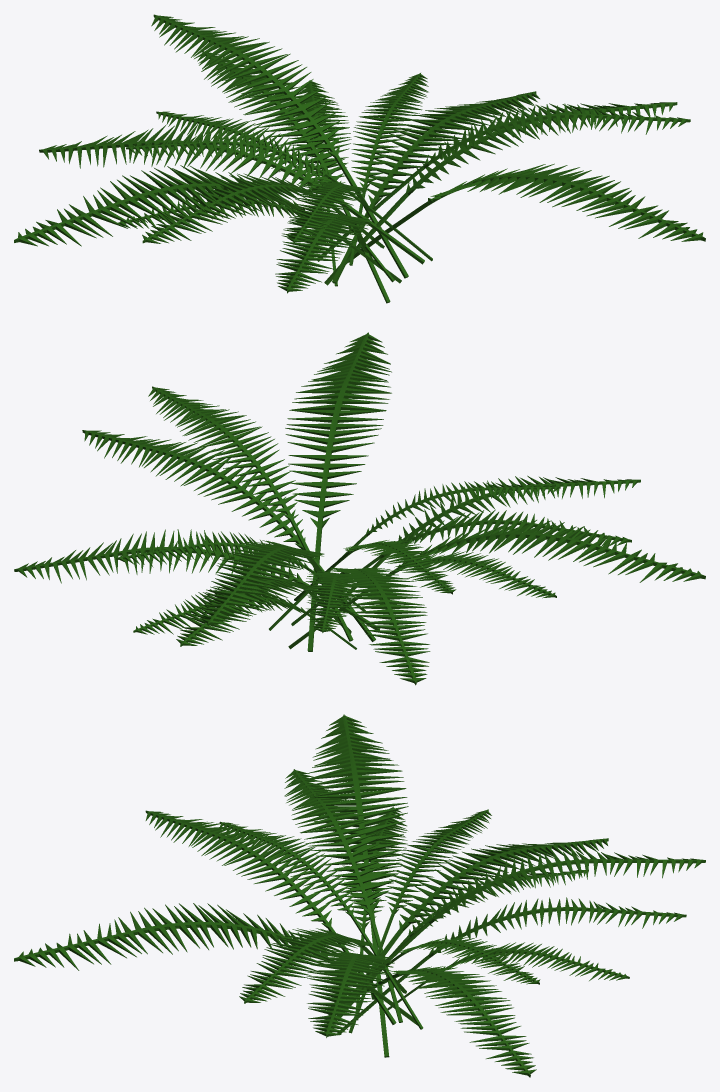
File: Dschungelpflanze_3.fbx
3 views of the same model, one above another, from view 1: azimuth 30°, elevation 25°; view 2: azimuth 150°, elevation 25°; view 3: azimuth 270°, elevation 25° (orthographic). The views are drawn at different scales.
Visible parts, largest first — view 1: Cube.015, Cube.012, Cube.003, Cube.007, Cube.008, Cube.005, Cube.010, Cube.016, Cube.017, Cube.004, Cube.011, Cube.014 (+4 smaller); view 2: Cube.012, Cube.011, Cube.017, Cube.008, Cube.003, Cube.015, Cube.007, Cube.004, Cube.005, Cube.010, Cube.014, Cube.013 (+4 smaller); view 3: Cube.003, Cube.012, Cube.010, Cube.007, Cube.004, Cube.008, Cube.017, Cube.011, Cube.015, Cube.013, Cube.014, Cube.005 (+4 smaller).
Part boxes in pixels (x1=…): Cube.015: x1=151, y1=14, x2=408, y2=278; Cube.012: x1=348, y1=163, x2=705, y2=262; Cube.003: x1=14, y1=165, x2=401, y2=283; Cube.007: x1=332, y1=91, x2=539, y2=283; Cube.008: x1=39, y1=123, x2=424, y2=264; Cube.005: x1=197, y1=51, x2=390, y2=303; Cube.010: x1=142, y1=173, x2=384, y2=248; Cube.016: x1=349, y1=73, x2=428, y2=265; Cube.017: x1=324, y1=102, x2=677, y2=285; Cube.004: x1=275, y1=211, x2=372, y2=293; Cube.011: x1=317, y1=103, x2=690, y2=261; Cube.014: x1=126, y1=130, x2=432, y2=261; Cube.012: x1=285, y1=332, x2=391, y2=651; Cube.011: x1=148, y1=386, x2=353, y2=641; Cube.017: x1=82, y1=430, x2=375, y2=641; Cube.008: x1=318, y1=567, x2=430, y2=685; Cube.003: x1=288, y1=520, x2=705, y2=649; Cube.015: x1=200, y1=540, x2=339, y2=625; Cube.007: x1=14, y1=529, x2=379, y2=630; Cube.004: x1=308, y1=475, x2=640, y2=633; Cube.005: x1=176, y1=572, x2=351, y2=646; Cube.010: x1=291, y1=510, x2=631, y2=625; Cube.014: x1=294, y1=540, x2=456, y2=600; Cube.013: x1=269, y1=481, x2=560, y2=630; Cube.003: x1=306, y1=714, x2=408, y2=1057; Cube.012: x1=14, y1=903, x2=417, y2=1025; Cube.010: x1=284, y1=769, x2=402, y2=1022; Cube.007: x1=367, y1=966, x2=536, y2=1077; Cube.004: x1=145, y1=810, x2=396, y2=1024; Cube.008: x1=337, y1=838, x2=608, y2=1017; Cube.017: x1=307, y1=950, x2=394, y2=1037; Cube.011: x1=239, y1=928, x2=406, y2=1003; Cube.015: x1=328, y1=849, x2=705, y2=1015; Cube.013: x1=219, y1=821, x2=423, y2=1029; Cube.014: x1=349, y1=809, x2=491, y2=1033; Cube.005: x1=337, y1=897, x2=686, y2=1035.
Bounding box in the file's own units: 1266 × 322 × 1204.
